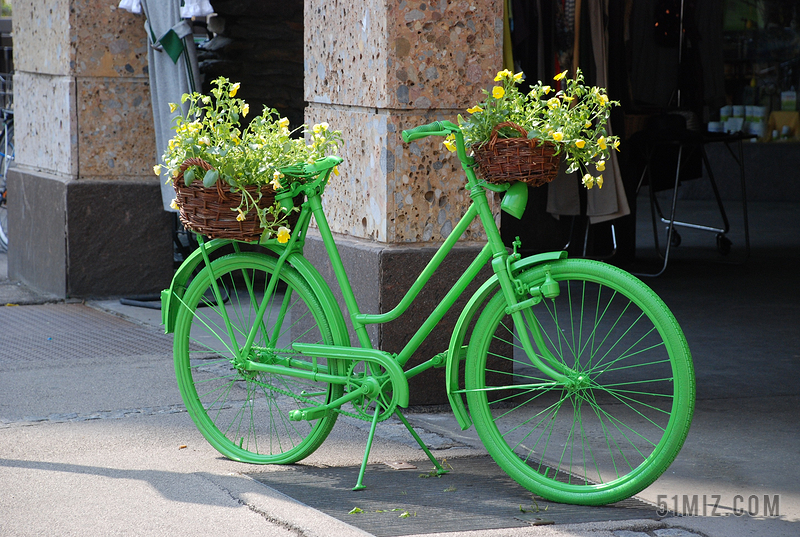MNV: (172, 122, 691, 505)
